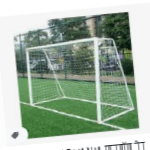goals: (25, 36, 134, 124)
